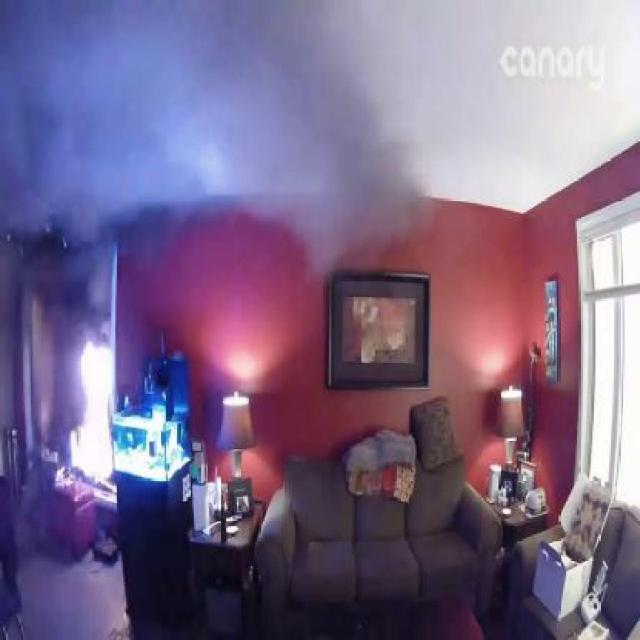fire: (0, 0, 431, 275)
